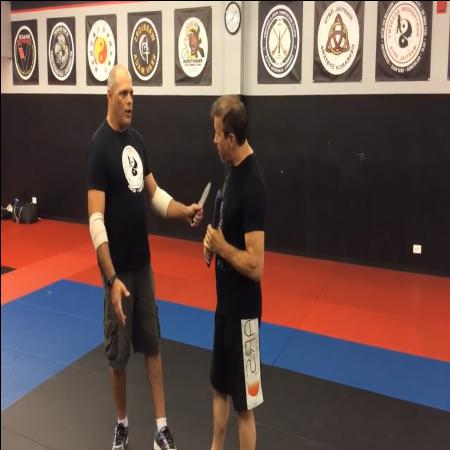long weapon: (188, 176, 212, 226)
